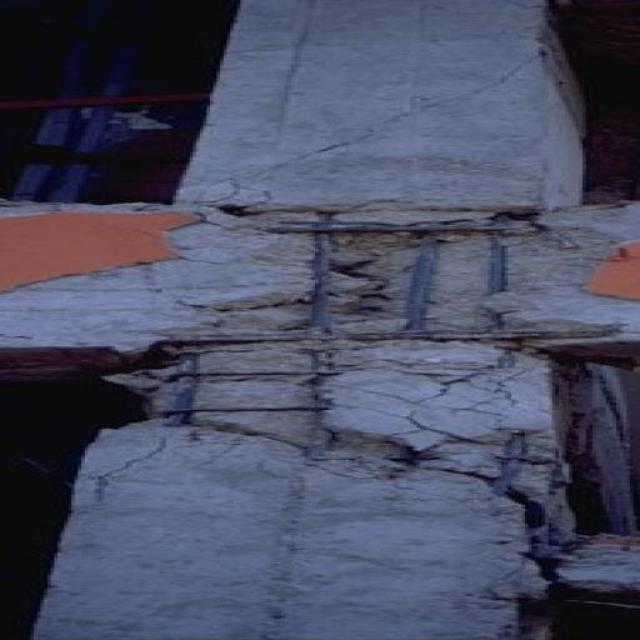D0w0: (18, 194, 639, 541)
